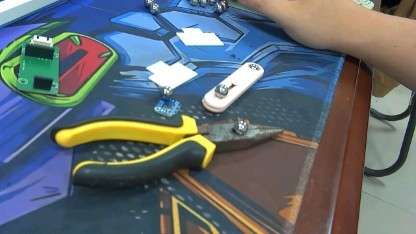ironball: (233, 116, 254, 134), (158, 82, 173, 101), (213, 84, 229, 98), (250, 60, 260, 72)
